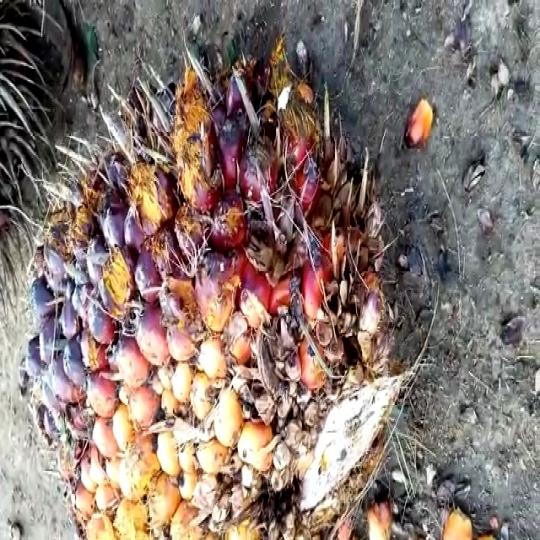masak: (28, 75, 416, 540)
